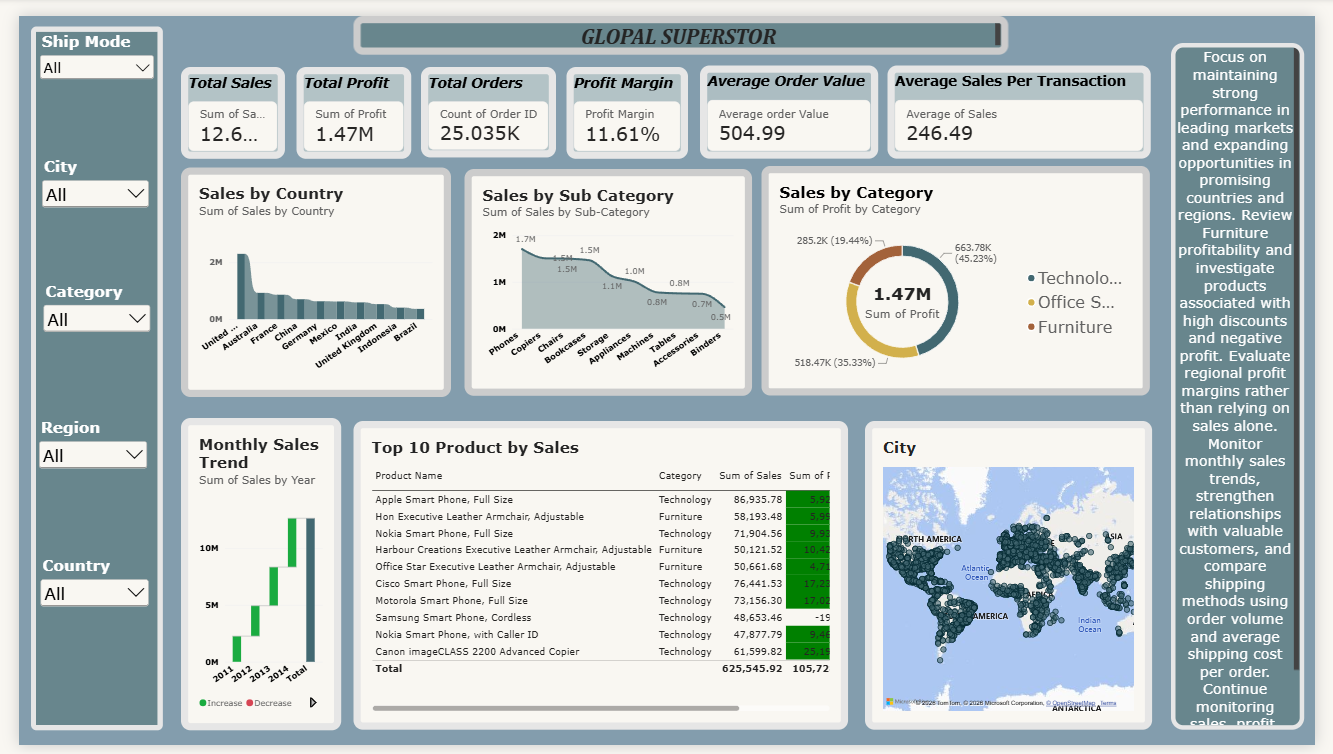

What the dashboard file says about the page in this screenshot:
{"tool":"powerbi","page":{"name":"Customer Analysis","canvas":[1920,1080],"ordinal":2},"visuals":[{"type":"areaChart","title":"Top 10 Customers by Sales","fields":{"Category":["Orders.Customer Name"],"Y":["Sum(Orders.Sales)"]},"box":[270,712.5,1167.5,345],"z":0},{"type":"pieChart","title":"Sales by Segment","fields":{"Category":["Orders.Segment"],"Y":["Sum(Orders.Sales)"]},"box":[1470,292.5,420,385],"z":1000},{"type":"columnChart","title":"Top 10 Country by Sales","fields":{"Category":["Orders.Country"],"Y":["Sum(Orders.Sales)"]},"box":[270,292.5,1167.5,385],"z":2000},{"type":"treemap","fields":{"Group":["Orders.Segment"],"Values":["Sum(Orders.Sales)"]},"box":[1470,712.5,420,345],"z":3000},{"type":"cardVisual","title":"Total Sales","fields":{"Data":["Sum(Orders.Sales)"]},"box":[270,130,182.5,135],"z":4000},{"type":"cardVisual","title":"Total Profit","fields":{"Data":["Sum(Orders.Profit)"]},"box":[475,130,215,135],"z":5000},{"type":"cardVisual","title":"Total Orders","fields":{"Data":["Count(Orders.Order ID)"]},"box":[715,130,200,134],"z":6000},{"type":"cardVisual","title":"Profit Margin","fields":{"Data":["Orders.Profit Margin"]},"box":[942.5,130,227.5,135],"z":7000},{"type":"cardVisual","title":"Average Order Value","fields":{"Data":["Orders.Average order Value"]},"box":[1205,130,264,138],"z":8000},{"type":"cardVisual","title":"Average Sales Per Transaction","fields":{"Data":["Avg(Orders.Sales)"]},"box":[1500,130,390,138],"z":9000},{"type":"slicer","fields":{"Values":["Orders.Ship Mode"]},"box":[17.5,15,222.5,1042.5],"z":10000},{"type":"slicer","fields":{"Values":["Orders.City"]},"box":[27.5,197.5,192.5,95],"z":11000},{"type":"slicer","fields":{"Values":["Orders.Category"]},"box":[30,395,190,100],"z":12000},{"type":"slicer","fields":{"Values":["Orders.Region"]},"box":[25,595,195,117.5],"z":13000},{"type":"slicer","fields":{"Values":["Orders.Country"]},"box":[27.5,800,192.5,137.5],"z":14000},{"type":"textbox","box":[402.5,15,1332.5,82.5],"z":15000}]}

Visuals, with their boxes in screenshot pixels (x1, y1, x2, y2), scaled from the page's 1920x1080 canvas onto the 1333x754 screenshot:
"Top 10 Customers by Sales" areaChart: rect(187, 497, 998, 738)
"Sales by Segment" pieChart: rect(1021, 204, 1312, 473)
"Top 10 Country by Sales" columnChart: rect(187, 204, 998, 473)
treemap - Orders.Segment x Sum(Orders.Sales): rect(1021, 497, 1312, 738)
"Total Sales" cardVisual: rect(187, 91, 314, 185)
"Total Profit" cardVisual: rect(330, 91, 479, 185)
"Total Orders" cardVisual: rect(496, 91, 635, 184)
"Profit Margin" cardVisual: rect(654, 91, 812, 185)
"Average Order Value" cardVisual: rect(837, 91, 1020, 187)
"Average Sales Per Transaction" cardVisual: rect(1041, 91, 1312, 187)
slicer - Orders.Ship Mode: rect(12, 10, 167, 738)
slicer - Orders.City: rect(19, 138, 153, 204)
slicer - Orders.Category: rect(21, 276, 153, 346)
slicer - Orders.Region: rect(17, 415, 153, 497)
slicer - Orders.Country: rect(19, 559, 153, 655)
textbox: rect(279, 10, 1205, 68)
